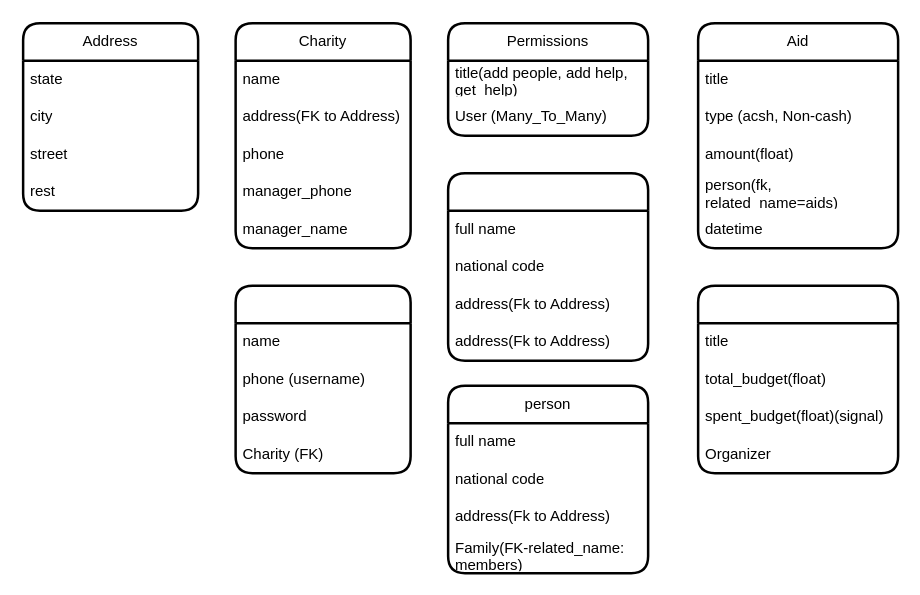
The diagram is 920 pixels wide and 595 high, and some of its shapes have lost their labels. The box of each missing label's shape, as (x1, y1, x2, y2) in pixels:
Family: (446, 171, 649, 361)
Plan: (696, 284, 899, 474)
User (Charity_Staff): (234, 284, 411, 474)
